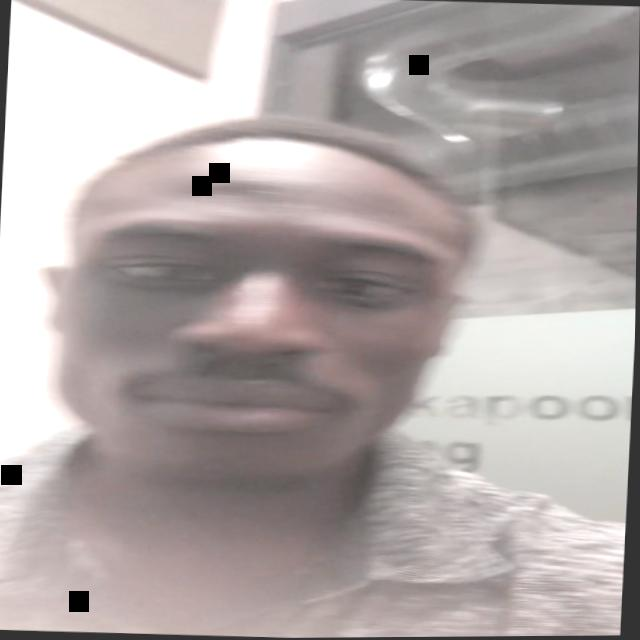NO-Mask: (48, 184, 475, 498)
